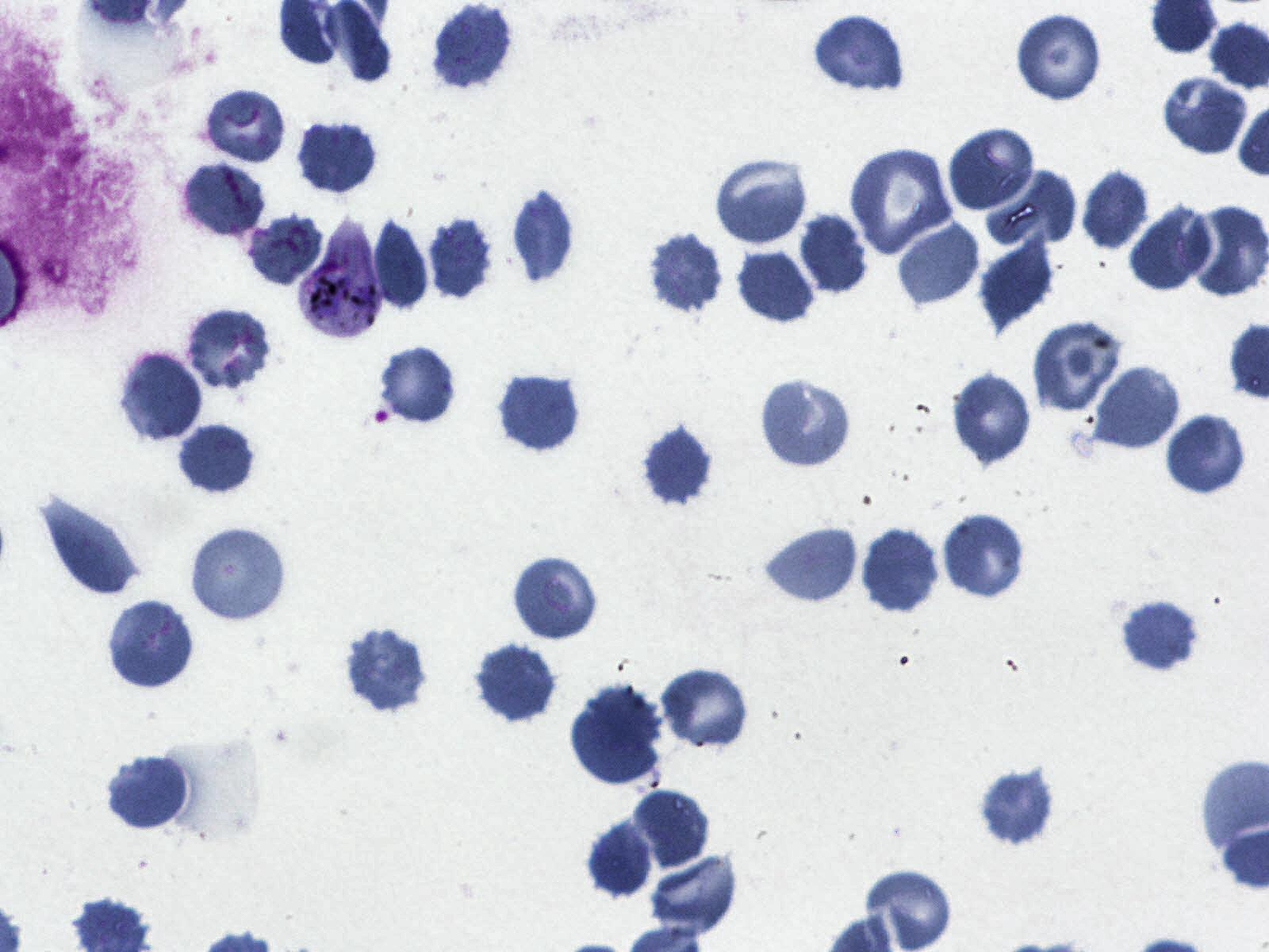Infected: (297, 229, 385, 341)
Uninfected: (849, 146, 951, 252), (189, 525, 286, 624), (713, 155, 808, 249), (45, 501, 138, 597), (1033, 317, 1125, 414), (982, 164, 1075, 259), (761, 376, 852, 469), (107, 597, 195, 693), (567, 698, 660, 786), (1015, 11, 1102, 105), (651, 850, 742, 939), (121, 349, 205, 445), (763, 522, 860, 605), (181, 305, 271, 393), (660, 666, 750, 752), (896, 217, 981, 308), (951, 372, 1034, 464), (950, 126, 1037, 213), (1187, 205, 1269, 297), (980, 230, 1052, 334), (1095, 366, 1182, 452), (814, 13, 904, 96), (432, 0, 514, 91), (943, 512, 1026, 601), (1131, 205, 1214, 294), (513, 556, 597, 643), (1163, 75, 1250, 159), (202, 86, 289, 169), (179, 160, 268, 240), (1167, 411, 1248, 498), (497, 371, 581, 454), (863, 526, 940, 616), (345, 627, 425, 711), (509, 186, 576, 286), (363, 217, 433, 312), (628, 791, 710, 872), (476, 640, 556, 723), (649, 230, 725, 316), (735, 248, 821, 324), (105, 755, 194, 828), (641, 423, 716, 507), (799, 213, 871, 299), (297, 120, 378, 195), (177, 420, 255, 497), (381, 346, 457, 425), (590, 819, 660, 904), (428, 214, 496, 301), (1119, 599, 1197, 674), (1085, 168, 1152, 255), (984, 767, 1056, 847), (241, 216, 322, 282)
